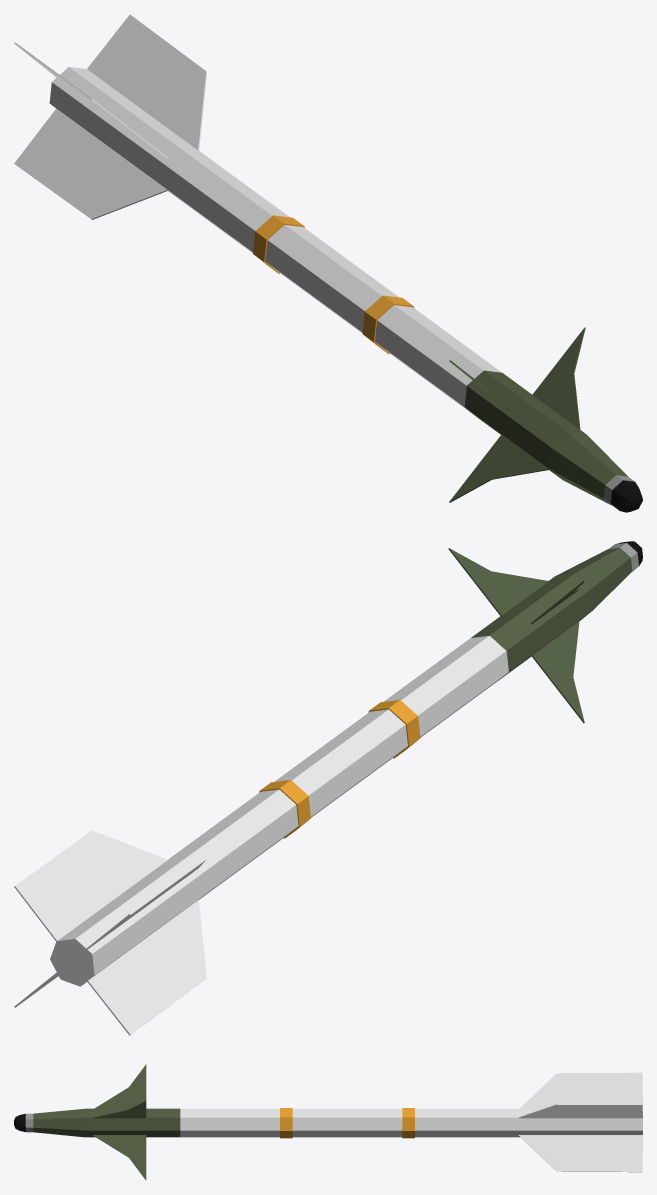
File: AIM9.fbx
3 views of the same model, one above another, from view 1: azimuth 30°, elevation 25°; view 2: azimuth 150°, elevation 25°; view 3: azimuth 270°, elevation 25° (orthographic). The views are drawn at different scales.
Parts seen in each view (by area): view 1: Cylinder, Cube.002, Cylinder.001, Cube.001, Cylinder.004, Cylinder.005, Cylinder.003, Cube.003; view 2: Cylinder, Cube.002, Cylinder.001, Cube.001, Cylinder.004, Cylinder.005, Cube.003; view 3: Cylinder, Cube.003, Cylinder.001, Cube, Cube.002, Cube.001, Cylinder.004, Cylinder.005.
Boxes of the visible parts, x1,y1,x2,y2 form: Cylinder: (49, 67, 501, 416); Cube.002: (14, 14, 207, 219); Cylinder.001: (464, 370, 627, 505); Cube.001: (449, 327, 585, 502); Cylinder.004: (362, 295, 414, 354); Cylinder.005: (253, 215, 304, 273); Cylinder.003: (610, 480, 642, 512); Cube.003: (14, 42, 169, 158); Cylinder: (50, 635, 508, 986); Cube.002: (14, 830, 206, 1035); Cylinder.001: (471, 548, 632, 680); Cube.001: (448, 548, 584, 723); Cylinder.004: (368, 700, 420, 758); Cylinder.005: (259, 780, 310, 838); Cube.003: (14, 858, 206, 1007); Cylinder: (180, 1108, 642, 1137); Cube.003: (518, 1072, 642, 1172); Cylinder.001: (33, 1108, 180, 1137); Cube: (93, 1064, 146, 1180); Cube.002: (519, 1104, 642, 1118); Cube.001: (93, 1101, 146, 1118); Cylinder.004: (280, 1108, 292, 1138); Cylinder.005: (402, 1108, 414, 1138).
Size of the model in its own units: 41.54 by 41.54 by 296.
